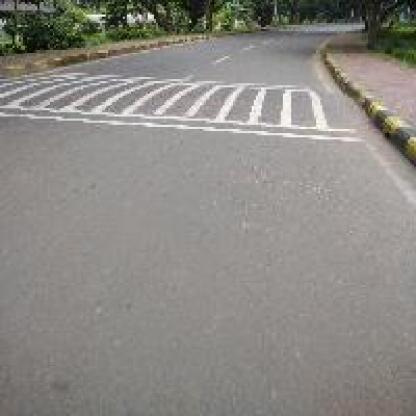Speed Bump: (6, 62, 370, 156)
